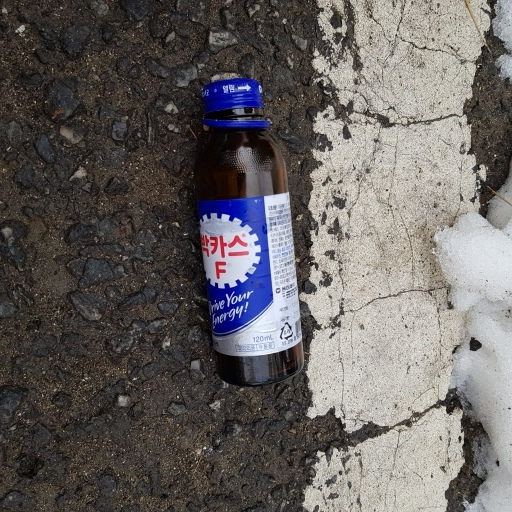Glass_3: (191, 79, 313, 385)
